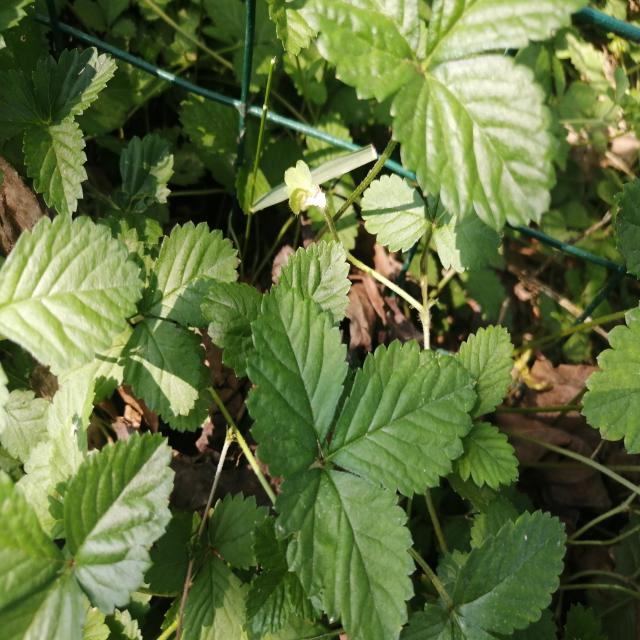Mock_strawberry: (270, 280, 477, 608)
